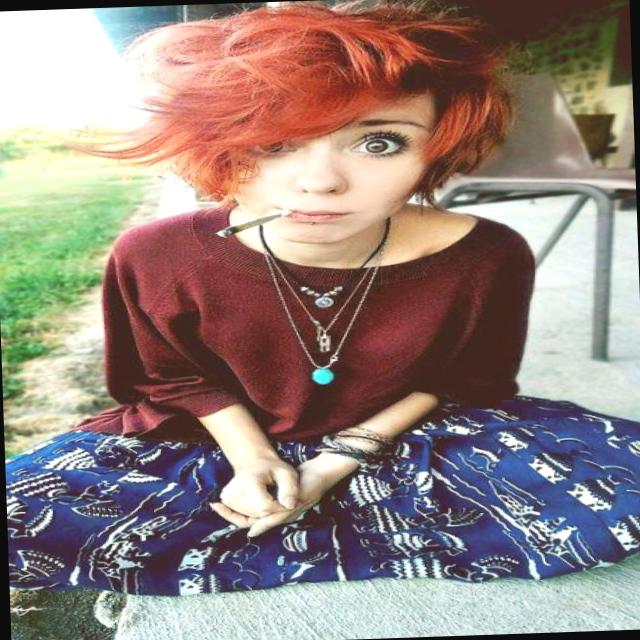smoke: (194, 194, 293, 262)
